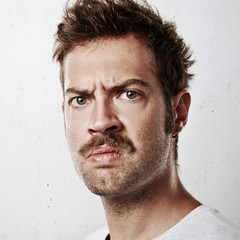young: (52, 4, 186, 196)
